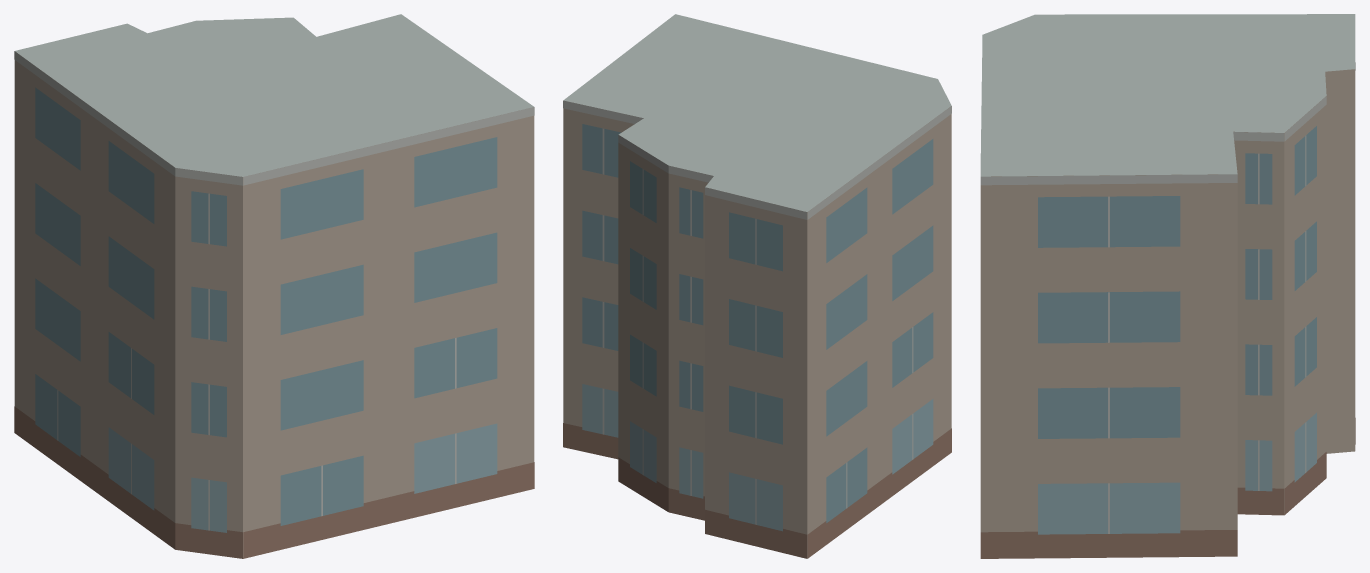
The model's file is survey-upis-32875741.glb.
3 views of the same model, side by side, from view 1: azimuth 30°, elevation 25°; view 2: azimuth 150°, elevation 25°; view 3: azimuth 270°, elevation 25° (orthographic). The views are drawn at different scales.
Visible parts, largest first — view 1: survey-upis-32875741.tmp; view 2: survey-upis-32875741.tmp; view 3: survey-upis-32875741.tmp.
Boxes of the visible parts, bbox=[...] form: survey-upis-32875741.tmp: bbox=[14, 14, 534, 558]; survey-upis-32875741.tmp: bbox=[563, 14, 951, 558]; survey-upis-32875741.tmp: bbox=[980, 14, 1355, 558].
Bounding box in the file's own units: 9.77 × 10.7 × 9.52.
